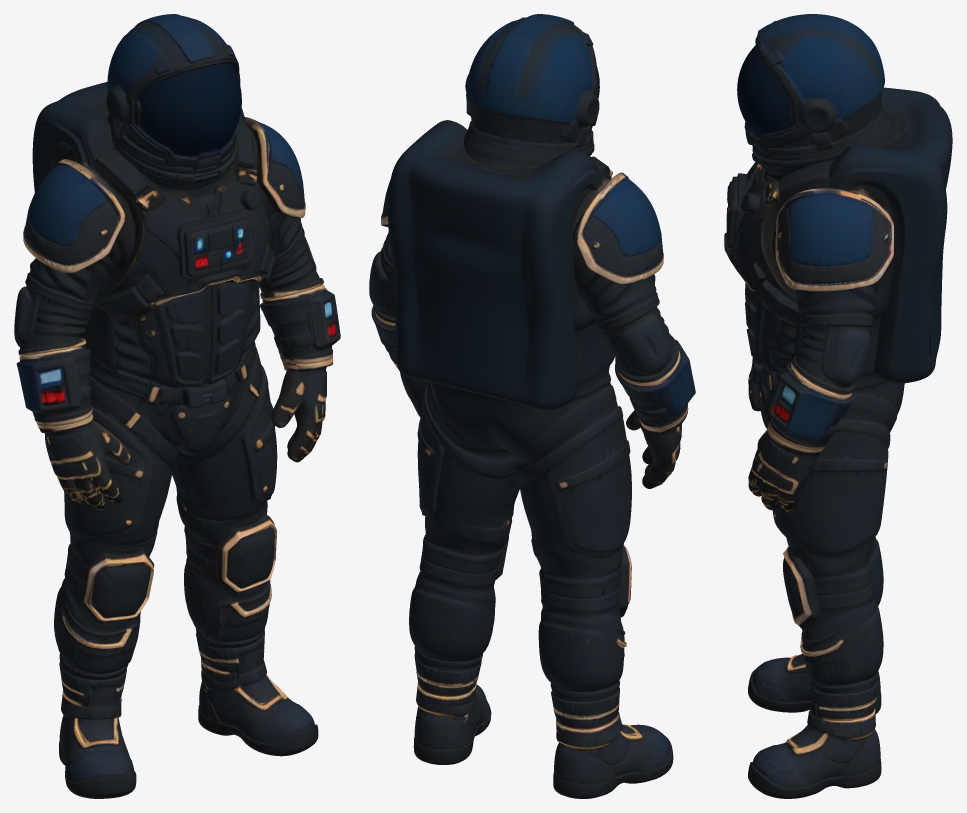
The model's file is a-futuristic-spaceman-wearing-a-black-su.glb.
3 views of the same model, side by side, from view 1: azimuth 30°, elevation 25°; view 2: azimuth 150°, elevation 25°; view 3: azimuth 270°, elevation 25° (orthographic).
Visible parts, largest first — view 1: material; view 2: material; view 3: material.
Part boxes in pixels (bbox=[...]): material: bbox=[14, 14, 340, 798]; material: bbox=[369, 14, 695, 798]; material: bbox=[724, 14, 952, 798].
Bounding box in the file's own units: 0.4873 × 1.13 × 0.3238.
Materials: 1 (1 with a texture image).
